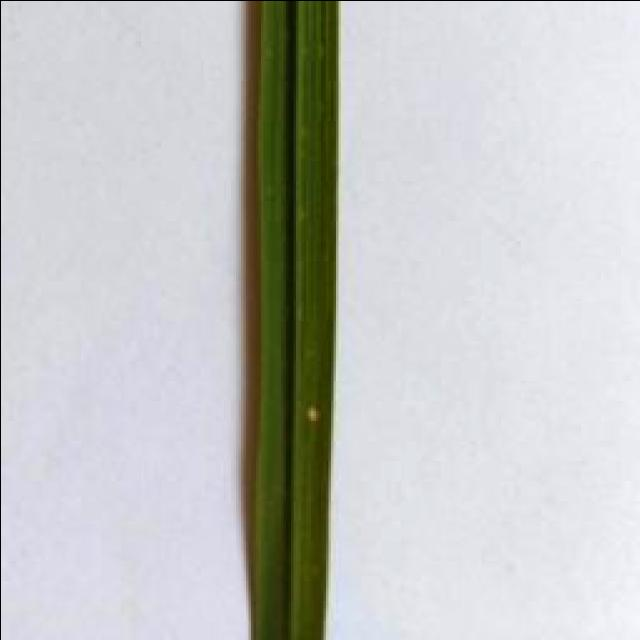Unhealthy: (302, 401, 323, 427)
